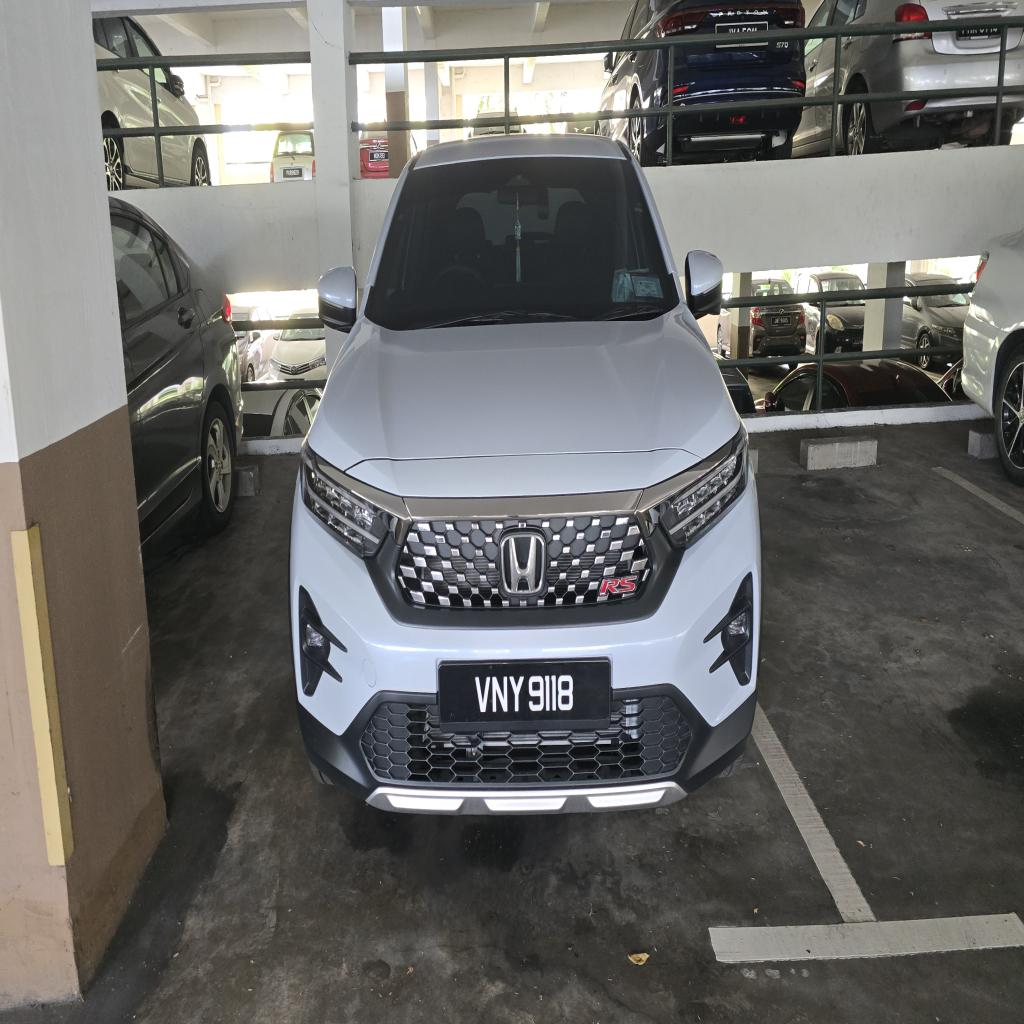car: (290, 136, 760, 813)
car plate: (438, 660, 611, 730)
